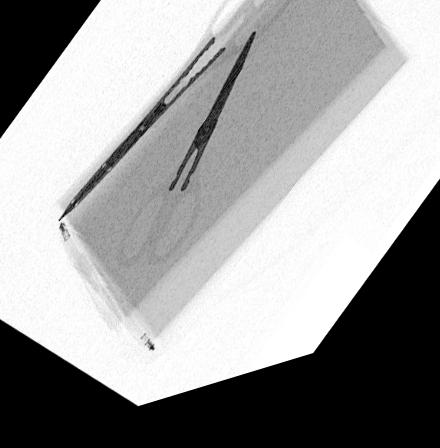Scissors: (53, 0, 298, 228), (112, 43, 258, 278)
